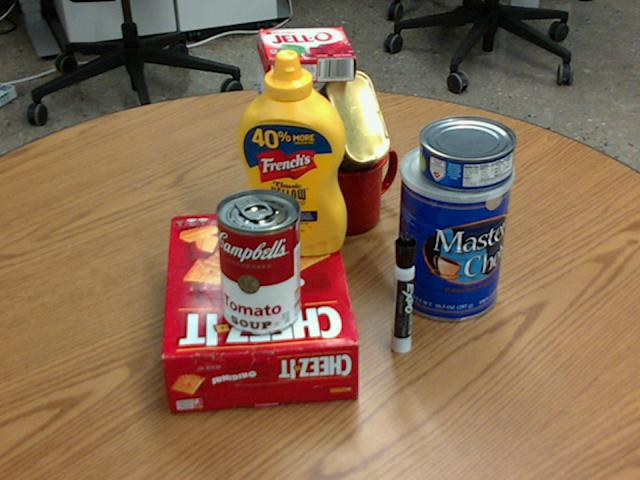cracker_box: (161, 209, 360, 411)
gelatin_box: (258, 28, 355, 83)
large_marker: (390, 234, 416, 353)
master_chef_can: (393, 139, 513, 321)
mug: (304, 132, 399, 233)
mustard_bottle: (235, 49, 345, 254)
potted_meat_can: (300, 71, 390, 188)
sugar_box: (258, 62, 310, 252)
tomato_soup_can: (215, 188, 301, 334)
tuna_fish_can: (419, 115, 516, 190)
